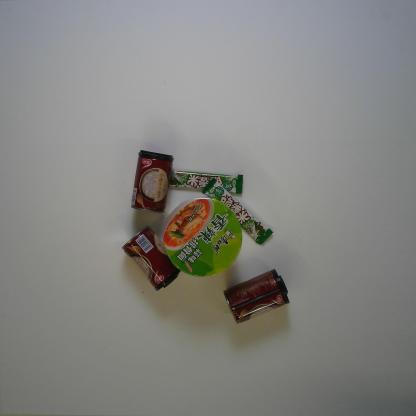Canned Food: (121, 226, 181, 291), (223, 268, 290, 324), (130, 150, 175, 213)
Chocolate: (202, 177, 274, 246), (166, 169, 244, 195)
Instant Noodles: (162, 196, 242, 278)
